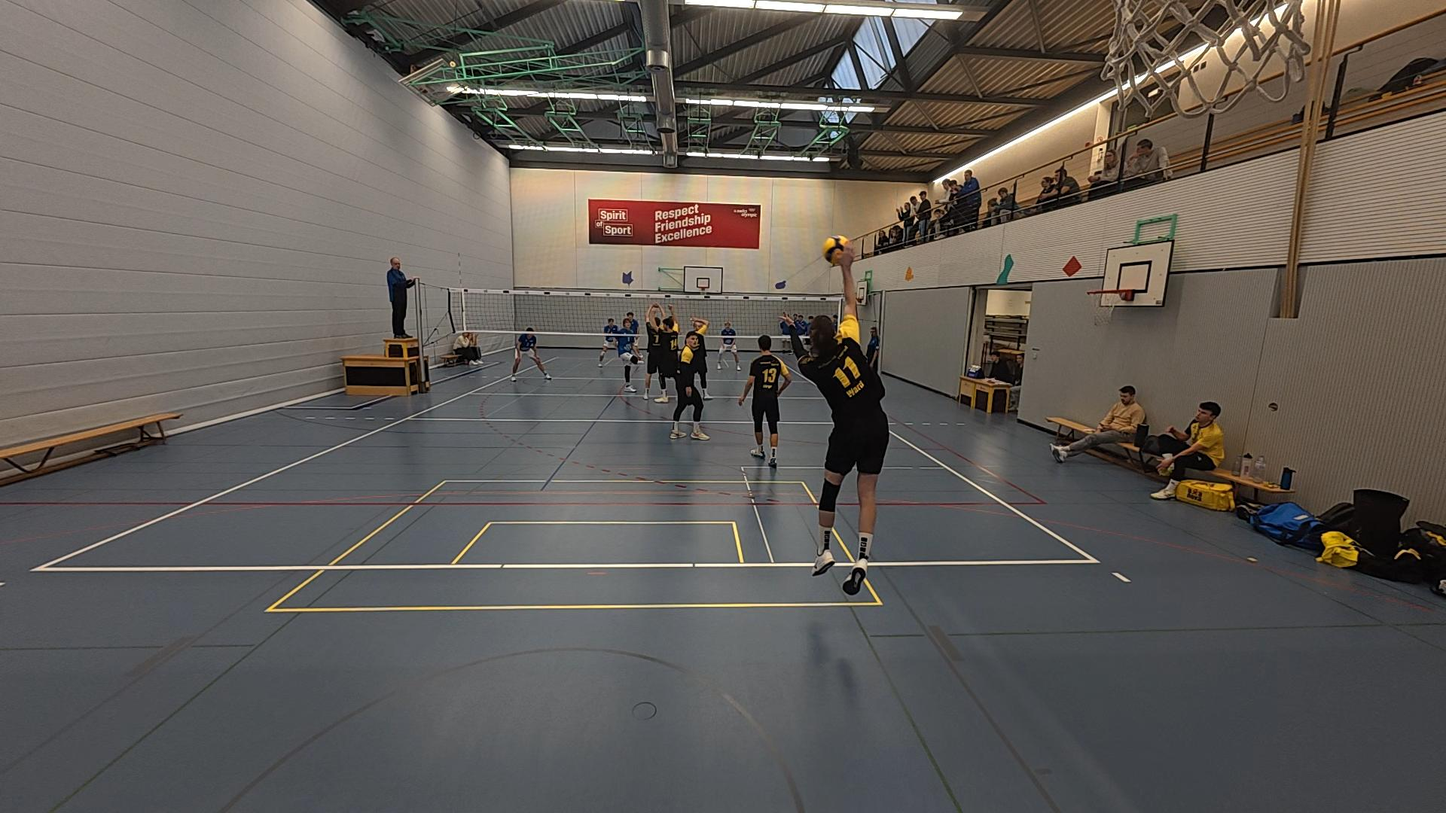battuta: (776, 236, 899, 596)
